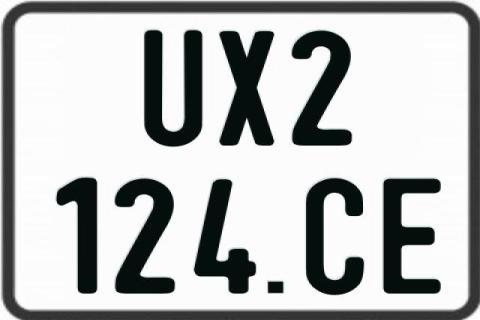0: (291, 29, 355, 148), (193, 180, 257, 296), (115, 178, 177, 296), (53, 177, 95, 293)
C: (303, 178, 363, 298)
E: (383, 178, 444, 298)
U: (141, 31, 205, 150)
X: (219, 31, 276, 149)
